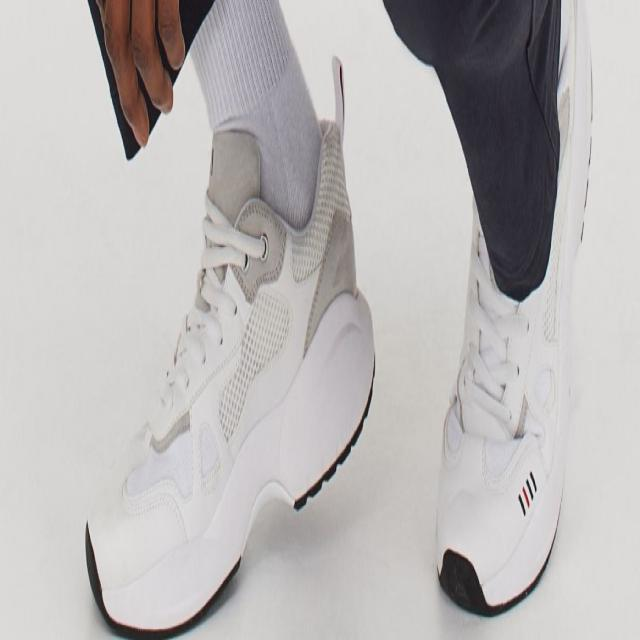shoes: (70, 45, 380, 640), (426, 0, 610, 625)
